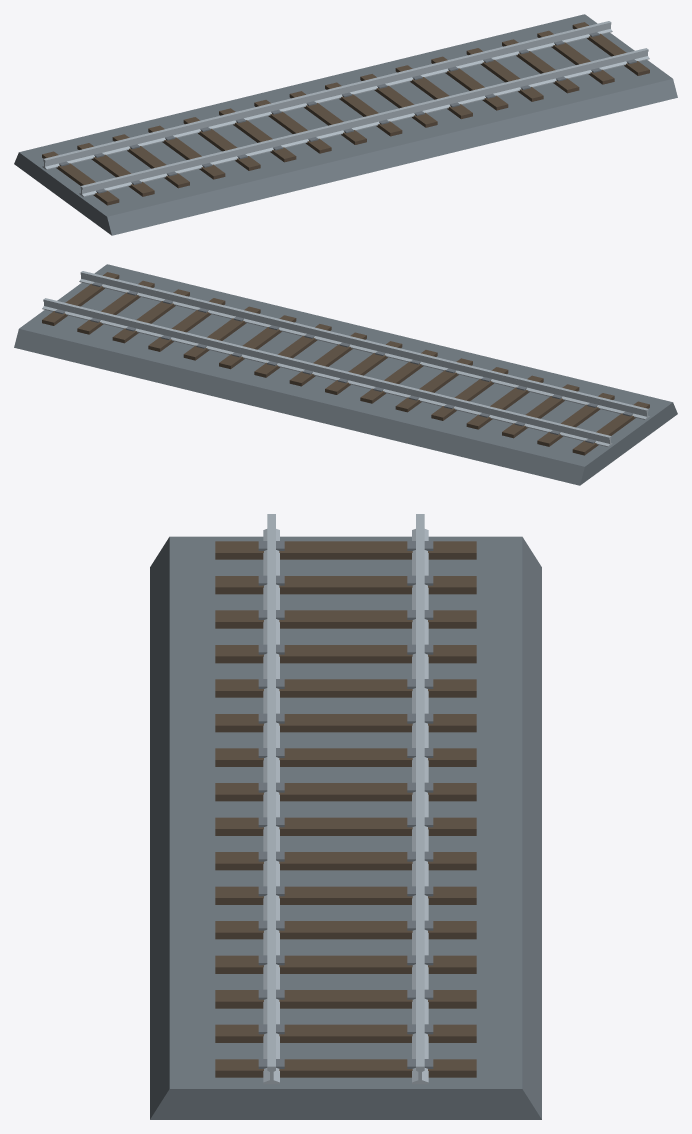
The model's file is straight_short.glb.
3 renders of one model, top to bottom at view 1: azimuth 30°, elevation 25°; view 2: azimuth 150°, elevation 25°; view 3: azimuth 270°, elevation 25°, orthographic. The views are drawn at different scales.
Visible parts, largest first — view 1: Bed.001, Rail_0_-1.001, Rail_0_1.001, Sleeper_0_5.001, Sleeper_0_6.001, Sleeper_0_3.001, Sleeper_0_11.001, Sleeper_0_13.001, Sleeper_0_0.001, Sleeper_0_8.001, Sleeper_0_14.001, Sleeper_0_1.001 (+7 smaller); view 2: Bed.001, Rail_0_1.001, Rail_0_-1.001, Sleeper_0_5.001, Sleeper_0_6.001, Sleeper_0_3.001, Sleeper_0_11.001, Sleeper_0_13.001, Sleeper_0_0.001, Sleeper_0_8.001, Sleeper_0_14.001, Sleeper_0_1.001 (+7 smaller); view 3: Bed.001, Rail_0_1.001, Rail_0_-1.001, Sleeper_0_13.001, Sleeper_0_1.001, Sleeper_0_3.001, Sleeper_0_5.001, Sleeper_0_7.001, Sleeper_0_9.001, Sleeper_0_11.001, Sleeper_0_0.001, Sleeper_0_2.001 (+7 smaller).
Part boxes in pixels (bbox=[...]): Bed.001: bbox=[14, 14, 677, 235]; Rail_0_-1.001: bbox=[79, 48, 649, 197]; Rail_0_1.001: bbox=[42, 21, 612, 169]; Sleeper_0_5.001: bbox=[219, 108, 296, 162]; Sleeper_0_6.001: bbox=[254, 100, 331, 153]; Sleeper_0_3.001: bbox=[148, 125, 225, 179]; Sleeper_0_11.001: bbox=[431, 56, 508, 110]; Sleeper_0_13.001: bbox=[502, 39, 579, 93]; Sleeper_0_0.001: bbox=[42, 151, 119, 205]; Sleeper_0_8.001: bbox=[325, 82, 402, 136]; Sleeper_0_14.001: bbox=[537, 30, 614, 84]; Sleeper_0_1.001: bbox=[77, 143, 154, 196]; Bed.001: bbox=[14, 264, 677, 485]; Rail_0_1.001: bbox=[42, 298, 612, 447]; Rail_0_-1.001: bbox=[79, 271, 649, 419]; Sleeper_0_5.001: bbox=[395, 358, 472, 412]; Sleeper_0_6.001: bbox=[360, 350, 437, 403]; Sleeper_0_3.001: bbox=[466, 375, 543, 429]; Sleeper_0_11.001: bbox=[183, 306, 260, 360]; Sleeper_0_13.001: bbox=[112, 289, 189, 343]; Sleeper_0_0.001: bbox=[572, 401, 649, 455]; Sleeper_0_8.001: bbox=[289, 332, 366, 386]; Sleeper_0_14.001: bbox=[77, 280, 154, 334]; Sleeper_0_1.001: bbox=[537, 393, 614, 446]; Bed.001: bbox=[150, 536, 541, 1119]; Rail_0_1.001: bbox=[412, 514, 428, 1084]; Rail_0_-1.001: bbox=[263, 514, 279, 1084]; Sleeper_0_13.001: bbox=[215, 990, 476, 1008]; Sleeper_0_1.001: bbox=[215, 576, 476, 594]; Sleeper_0_3.001: bbox=[215, 645, 476, 663]; Sleeper_0_5.001: bbox=[215, 714, 476, 732]; Sleeper_0_7.001: bbox=[215, 783, 476, 801]; Sleeper_0_9.001: bbox=[215, 852, 476, 870]; Sleeper_0_11.001: bbox=[215, 921, 476, 939]; Sleeper_0_0.001: bbox=[215, 541, 476, 559]; Sleeper_0_2.001: bbox=[215, 610, 476, 628].
Bounding box in the file's own units: 10 × 0.45 × 3.
